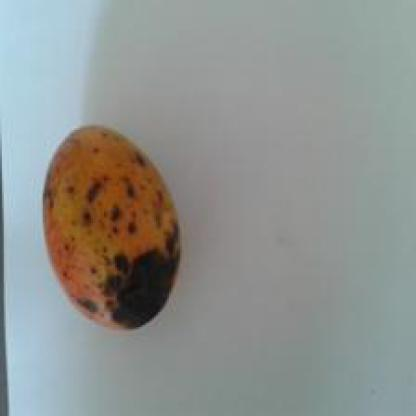mango_rotten: (37, 121, 182, 330)
